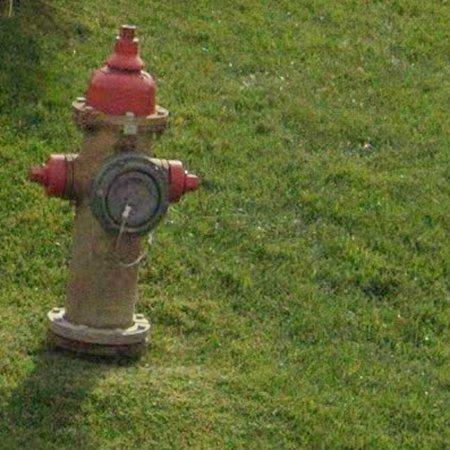a fire hydrant: (28, 25, 200, 357)
